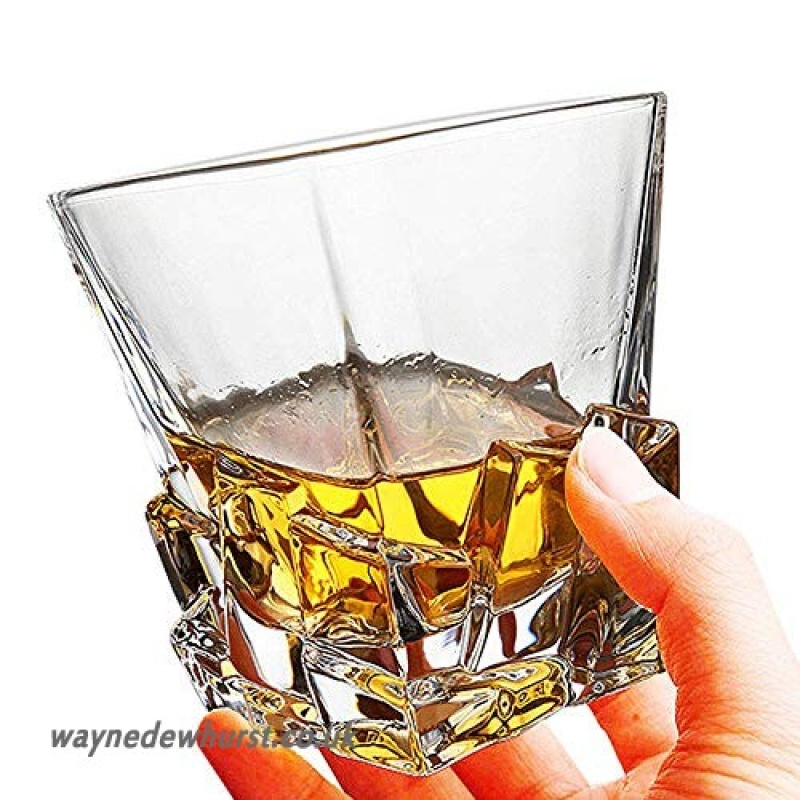whiskey: (50, 77, 676, 768)
